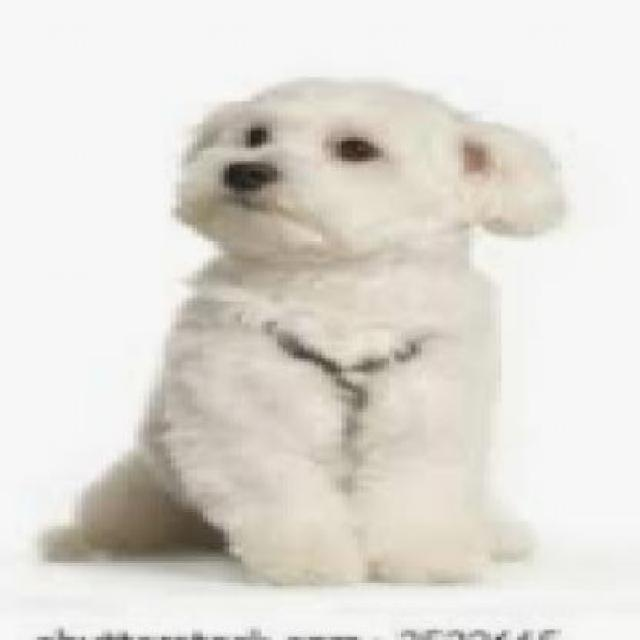Dog: (52, 75, 588, 588)
